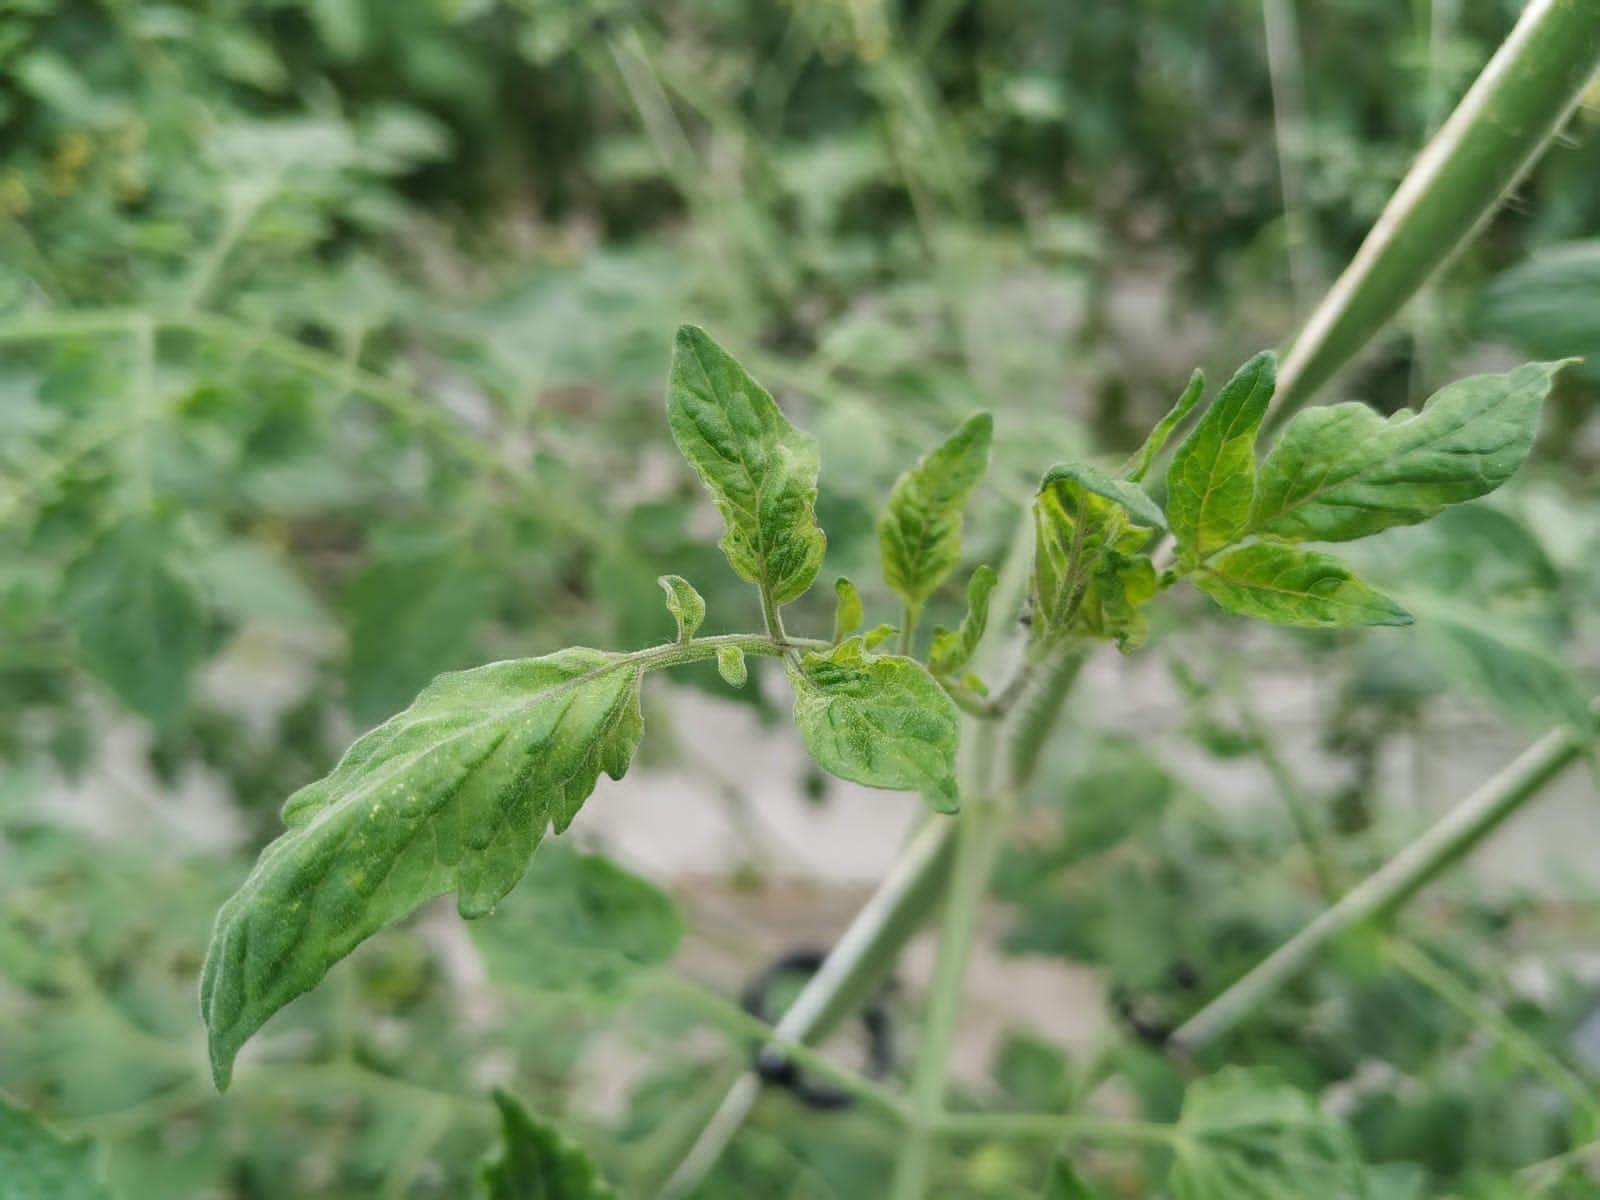Hoja rugoso: (200, 647, 640, 1088), (1250, 363, 1562, 541), (669, 325, 825, 640), (787, 638, 960, 813), (1169, 353, 1275, 572), (1194, 541, 1412, 628)
